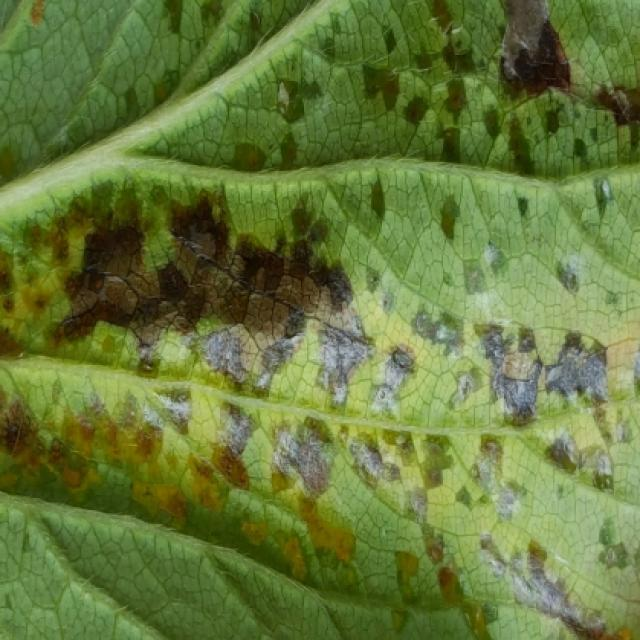Angular Leafspot: (0, 0, 638, 638)
